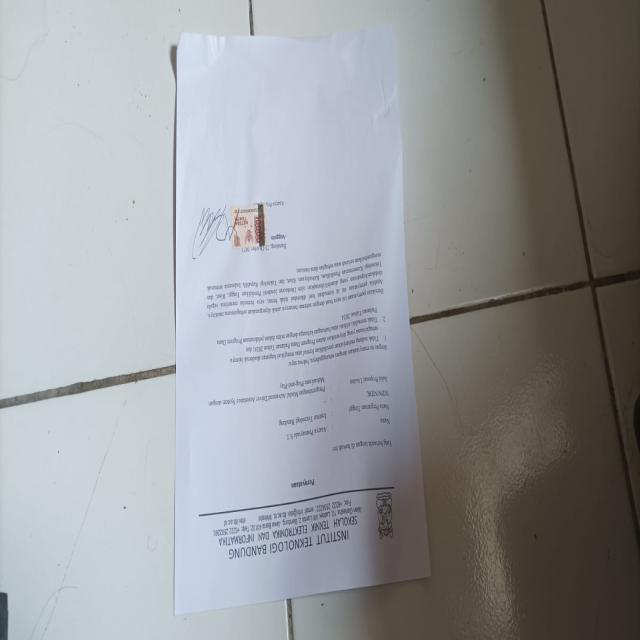Organik: (175, 33, 430, 611)
